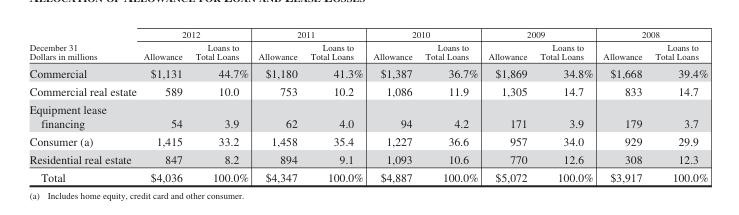table: (28, 28, 707, 183)
table column: (28, 28, 139, 183), (188, 28, 252, 183), (303, 28, 367, 183), (418, 28, 482, 183), (533, 28, 597, 183), (647, 28, 707, 183), (252, 28, 303, 183), (367, 28, 418, 183), (482, 28, 533, 183), (597, 28, 647, 183), (139, 28, 188, 183)
table column header: (28, 28, 707, 63)
table row: (28, 99, 707, 132), (28, 40, 707, 63), (28, 63, 707, 81), (28, 81, 707, 99), (28, 132, 707, 150), (28, 150, 707, 168), (28, 168, 707, 183), (28, 28, 707, 40)
table spanning cell: (28, 28, 139, 63), (252, 28, 367, 40), (367, 28, 482, 40), (482, 28, 597, 40), (139, 28, 252, 40), (597, 28, 707, 40)
